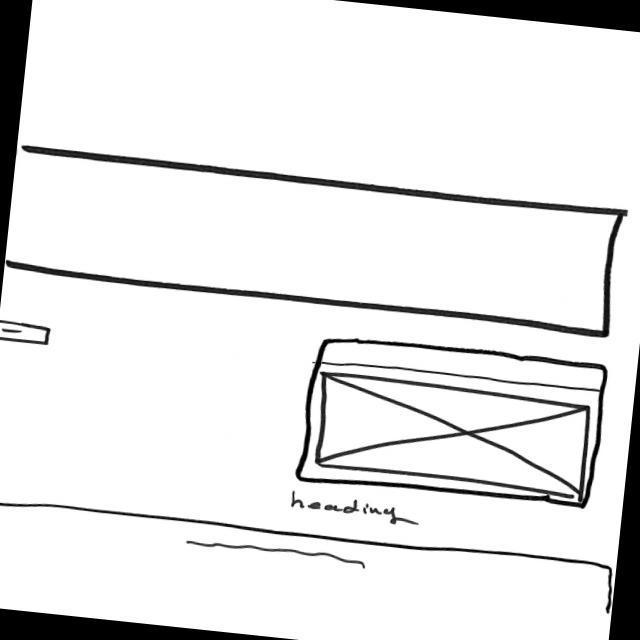container: (4, 142, 625, 340), (298, 333, 608, 513)
icon-button: (1, 319, 53, 348)
image: (312, 370, 594, 499)
label: (287, 490, 419, 528)
text: (183, 535, 369, 570)
